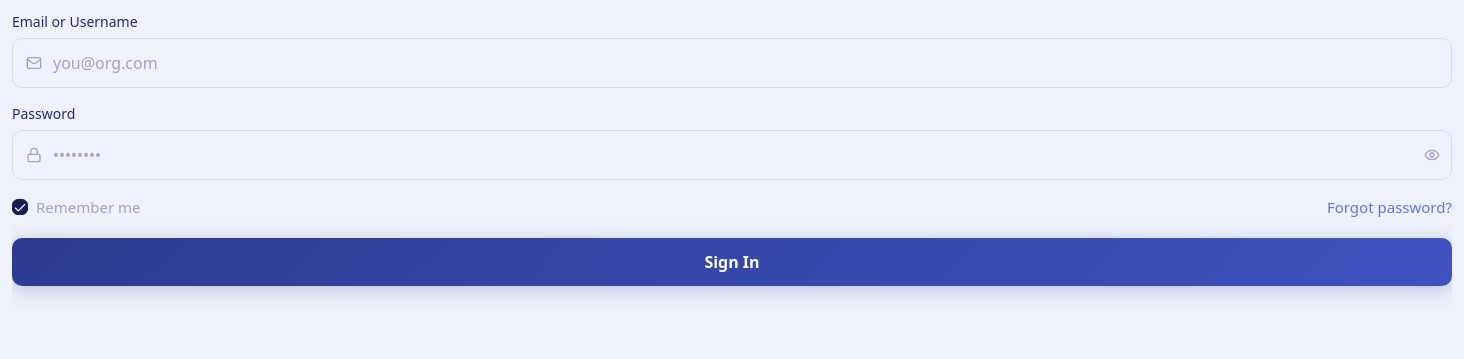
Test case: CredentialsForm › requires an identifier and password before submitting
Click the button "Sign In".
click(732, 262)  # box [12,238,1452,286]
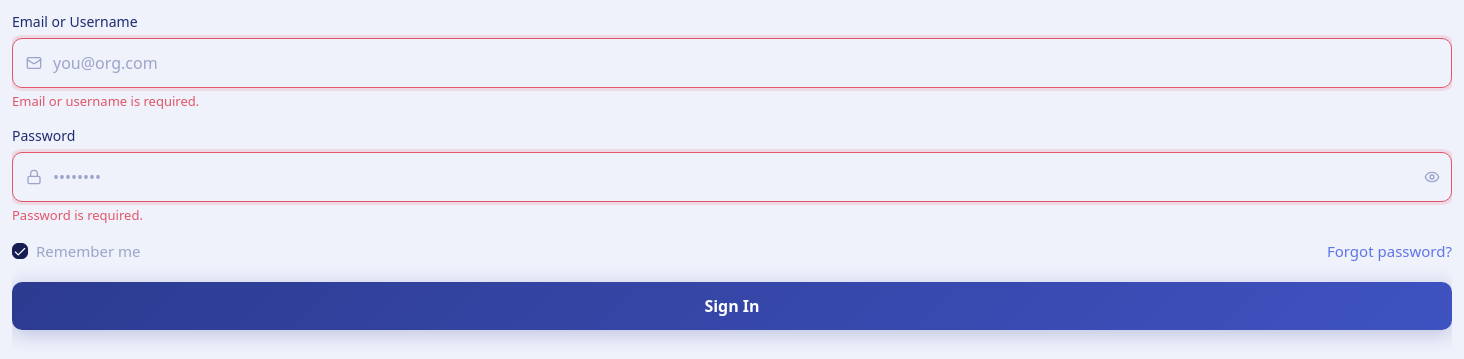
Result: the text "Email or username is required." is shown at [12,92,199,110]
Result: the text "Password is required." is shown at [12,206,143,224]
